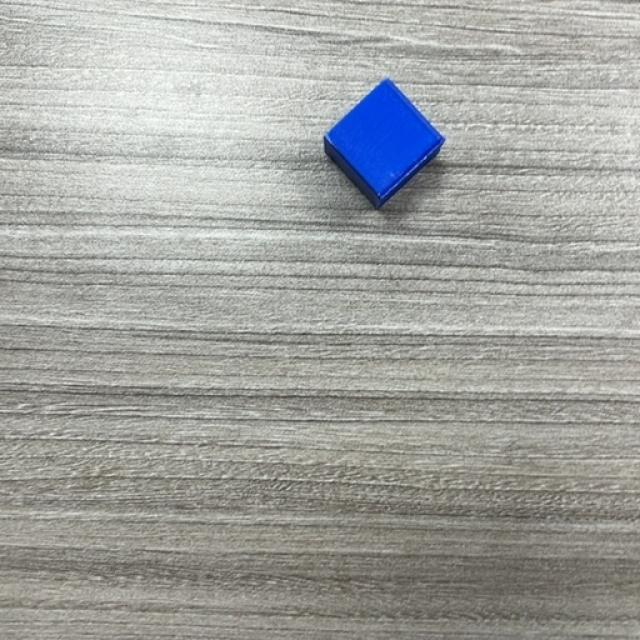Azul: (321, 78, 446, 210)
